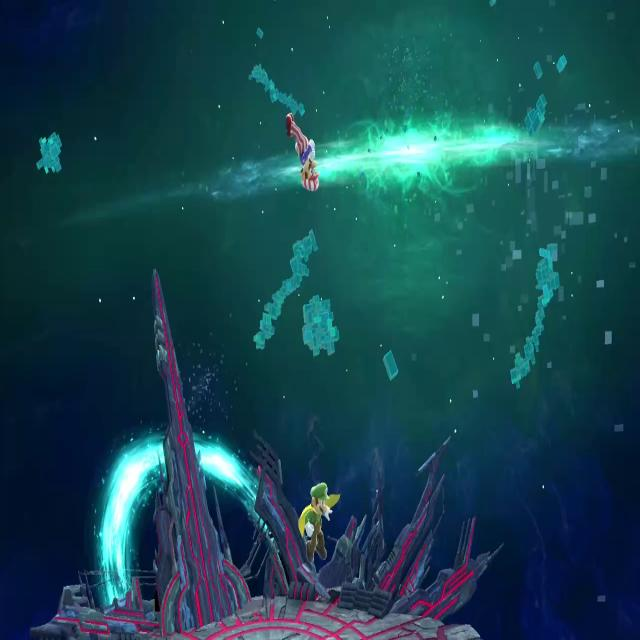Mario-JA: (278, 107, 324, 197)
Mario-SB: (295, 477, 342, 567)
